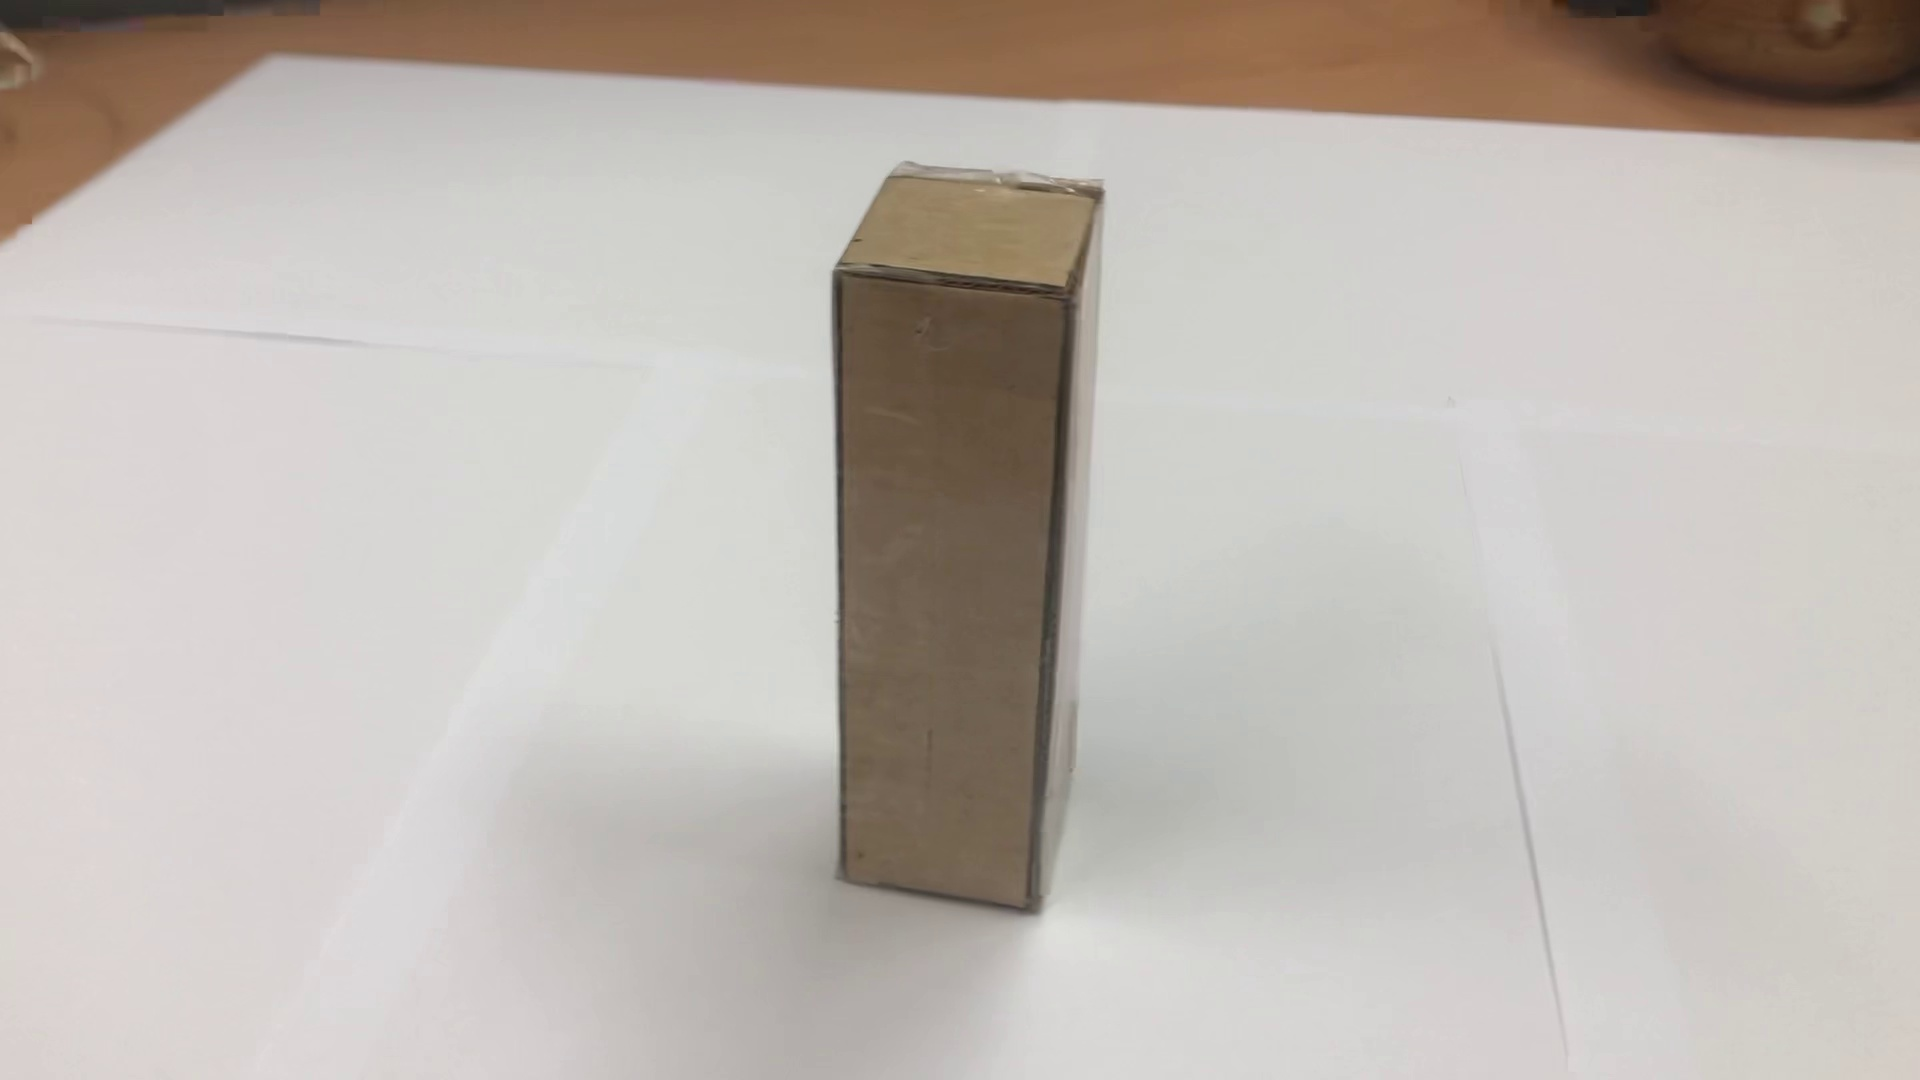box: (796, 148, 1122, 960)
